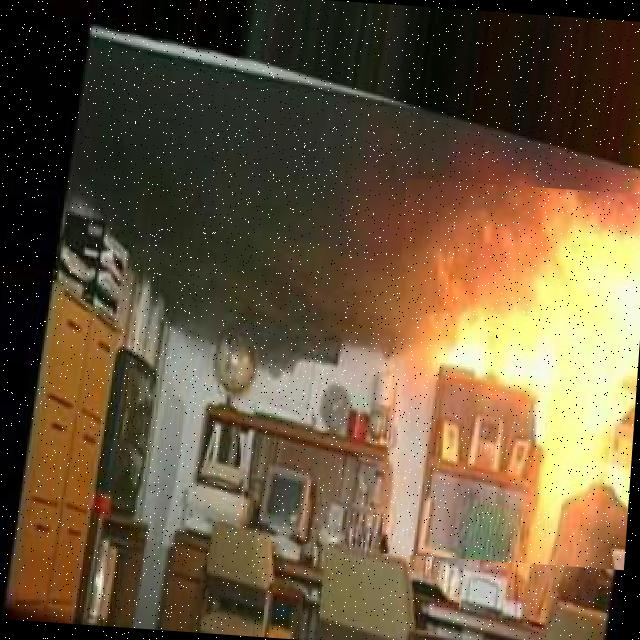fire: (379, 177, 640, 569)
